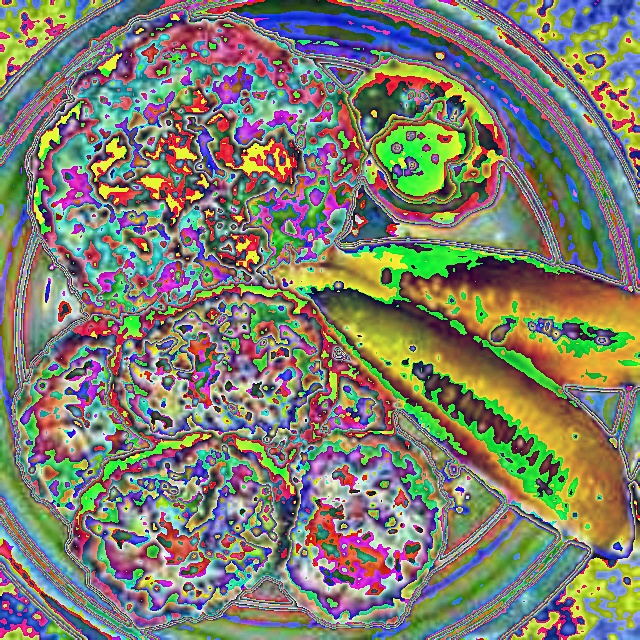background: (13, 8, 639, 632)
